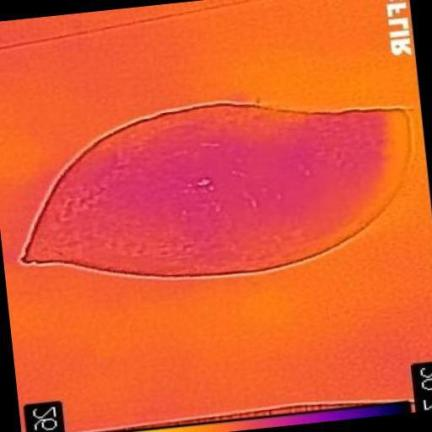mango: (22, 104, 408, 276)
